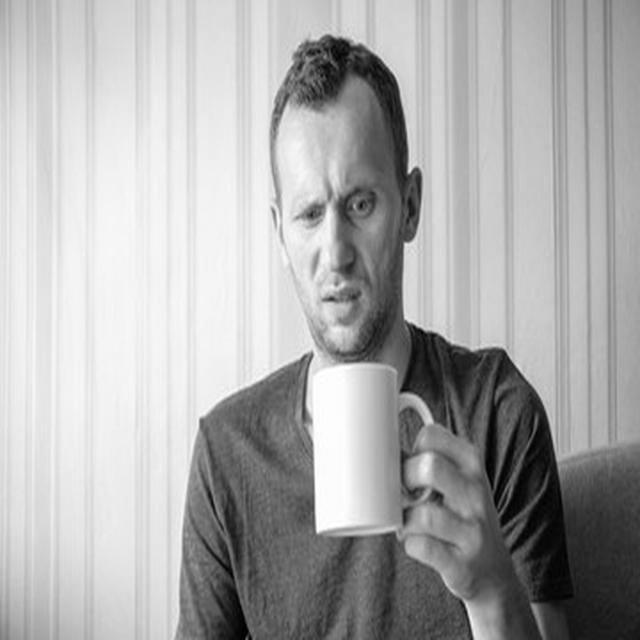Disgust: (281, 103, 404, 354)
